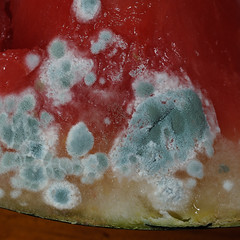mold_bread: (119, 68, 218, 207), (7, 96, 51, 191), (29, 41, 95, 98), (49, 153, 107, 180), (44, 182, 83, 210), (65, 124, 94, 154), (90, 29, 118, 54), (69, 1, 101, 21)
